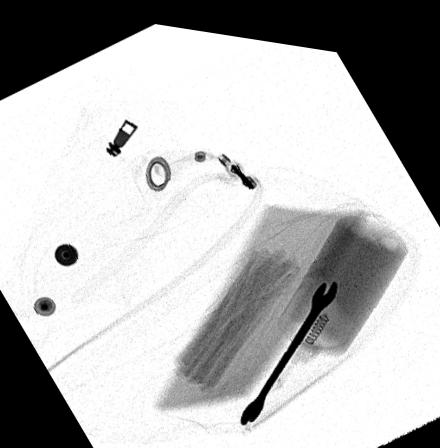Wrench: (238, 267, 339, 419)
